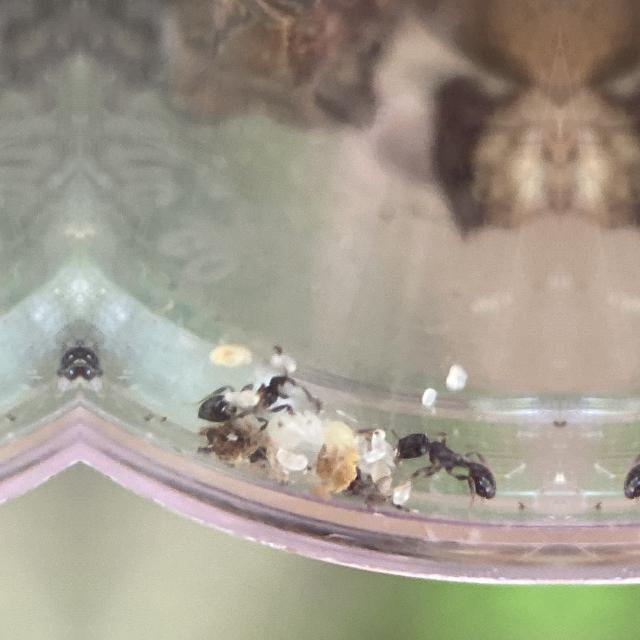Temnothorax: (184, 336, 314, 472), (378, 406, 507, 518), (612, 404, 640, 518), (80, 333, 102, 392), (58, 333, 80, 392)
